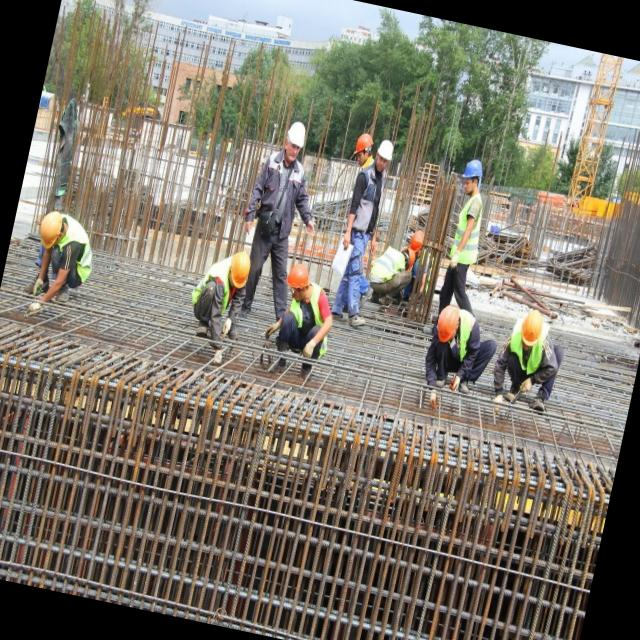Helmet: (36, 210, 69, 252), (433, 305, 463, 347), (226, 248, 254, 293), (519, 311, 547, 352), (285, 263, 315, 294), (352, 133, 375, 163), (285, 122, 309, 149), (461, 159, 485, 185), (375, 138, 397, 165), (409, 229, 424, 257), (403, 250, 417, 271)
Jacket: (286, 296, 334, 352), (53, 223, 100, 279), (452, 195, 487, 268), (197, 263, 235, 319), (507, 336, 547, 381), (374, 248, 407, 293), (453, 315, 478, 360)
NoJacket: (256, 158, 306, 243), (350, 168, 387, 243)
